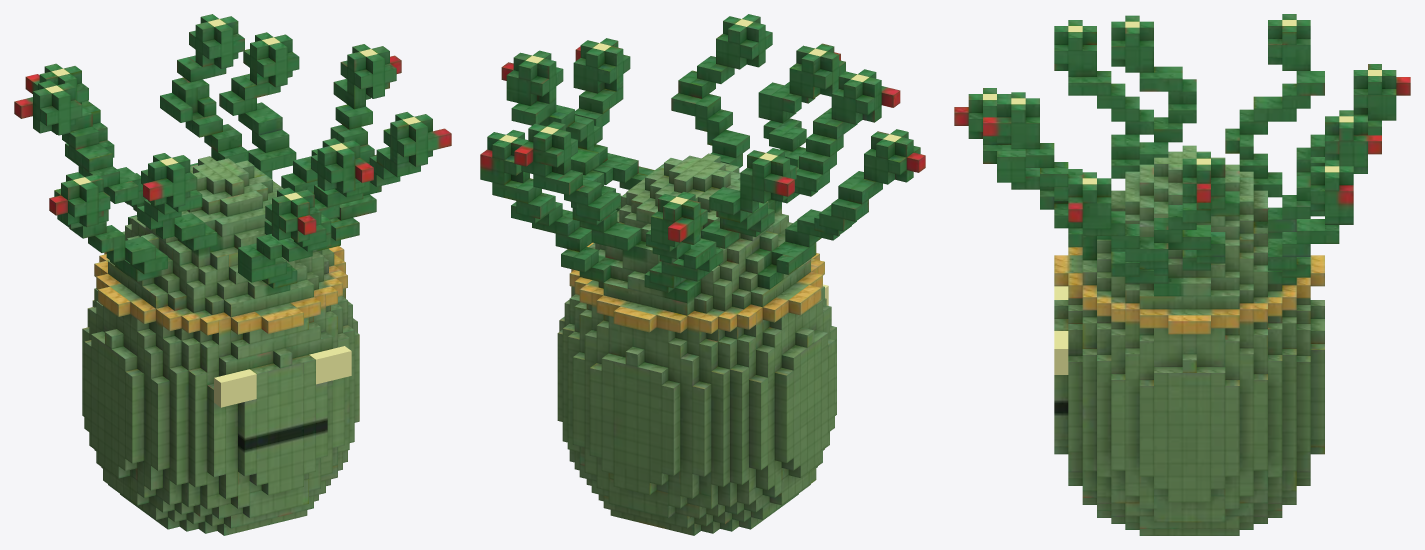
File: medusa.glb
The picture shows the model from 3 angles, left to right: view 1: azimuth 30°, elevation 25°; view 2: azimuth 150°, elevation 25°; view 3: azimuth 270°, elevation 25°; orthographic projection. The views are drawn at different scales.
Parts seen in each view (by area): view 1: Body.005, Glow.001; view 2: Body.005, Glow.001; view 3: Body.005, Glow.001.
Boxes of the visible parts, x1,y1,x2,y2 form: Body.005: [14, 14, 451, 535]; Glow.001: [45, 19, 420, 407]; Body.005: [480, 14, 925, 535]; Glow.001: [499, 19, 901, 305]; Body.005: [954, 14, 1410, 535]; Glow.001: [983, 20, 1381, 374].
Bounding box in the file's own units: 4.8 × 4.8 × 4.8.
Materials: 2 (1 with a texture image).
